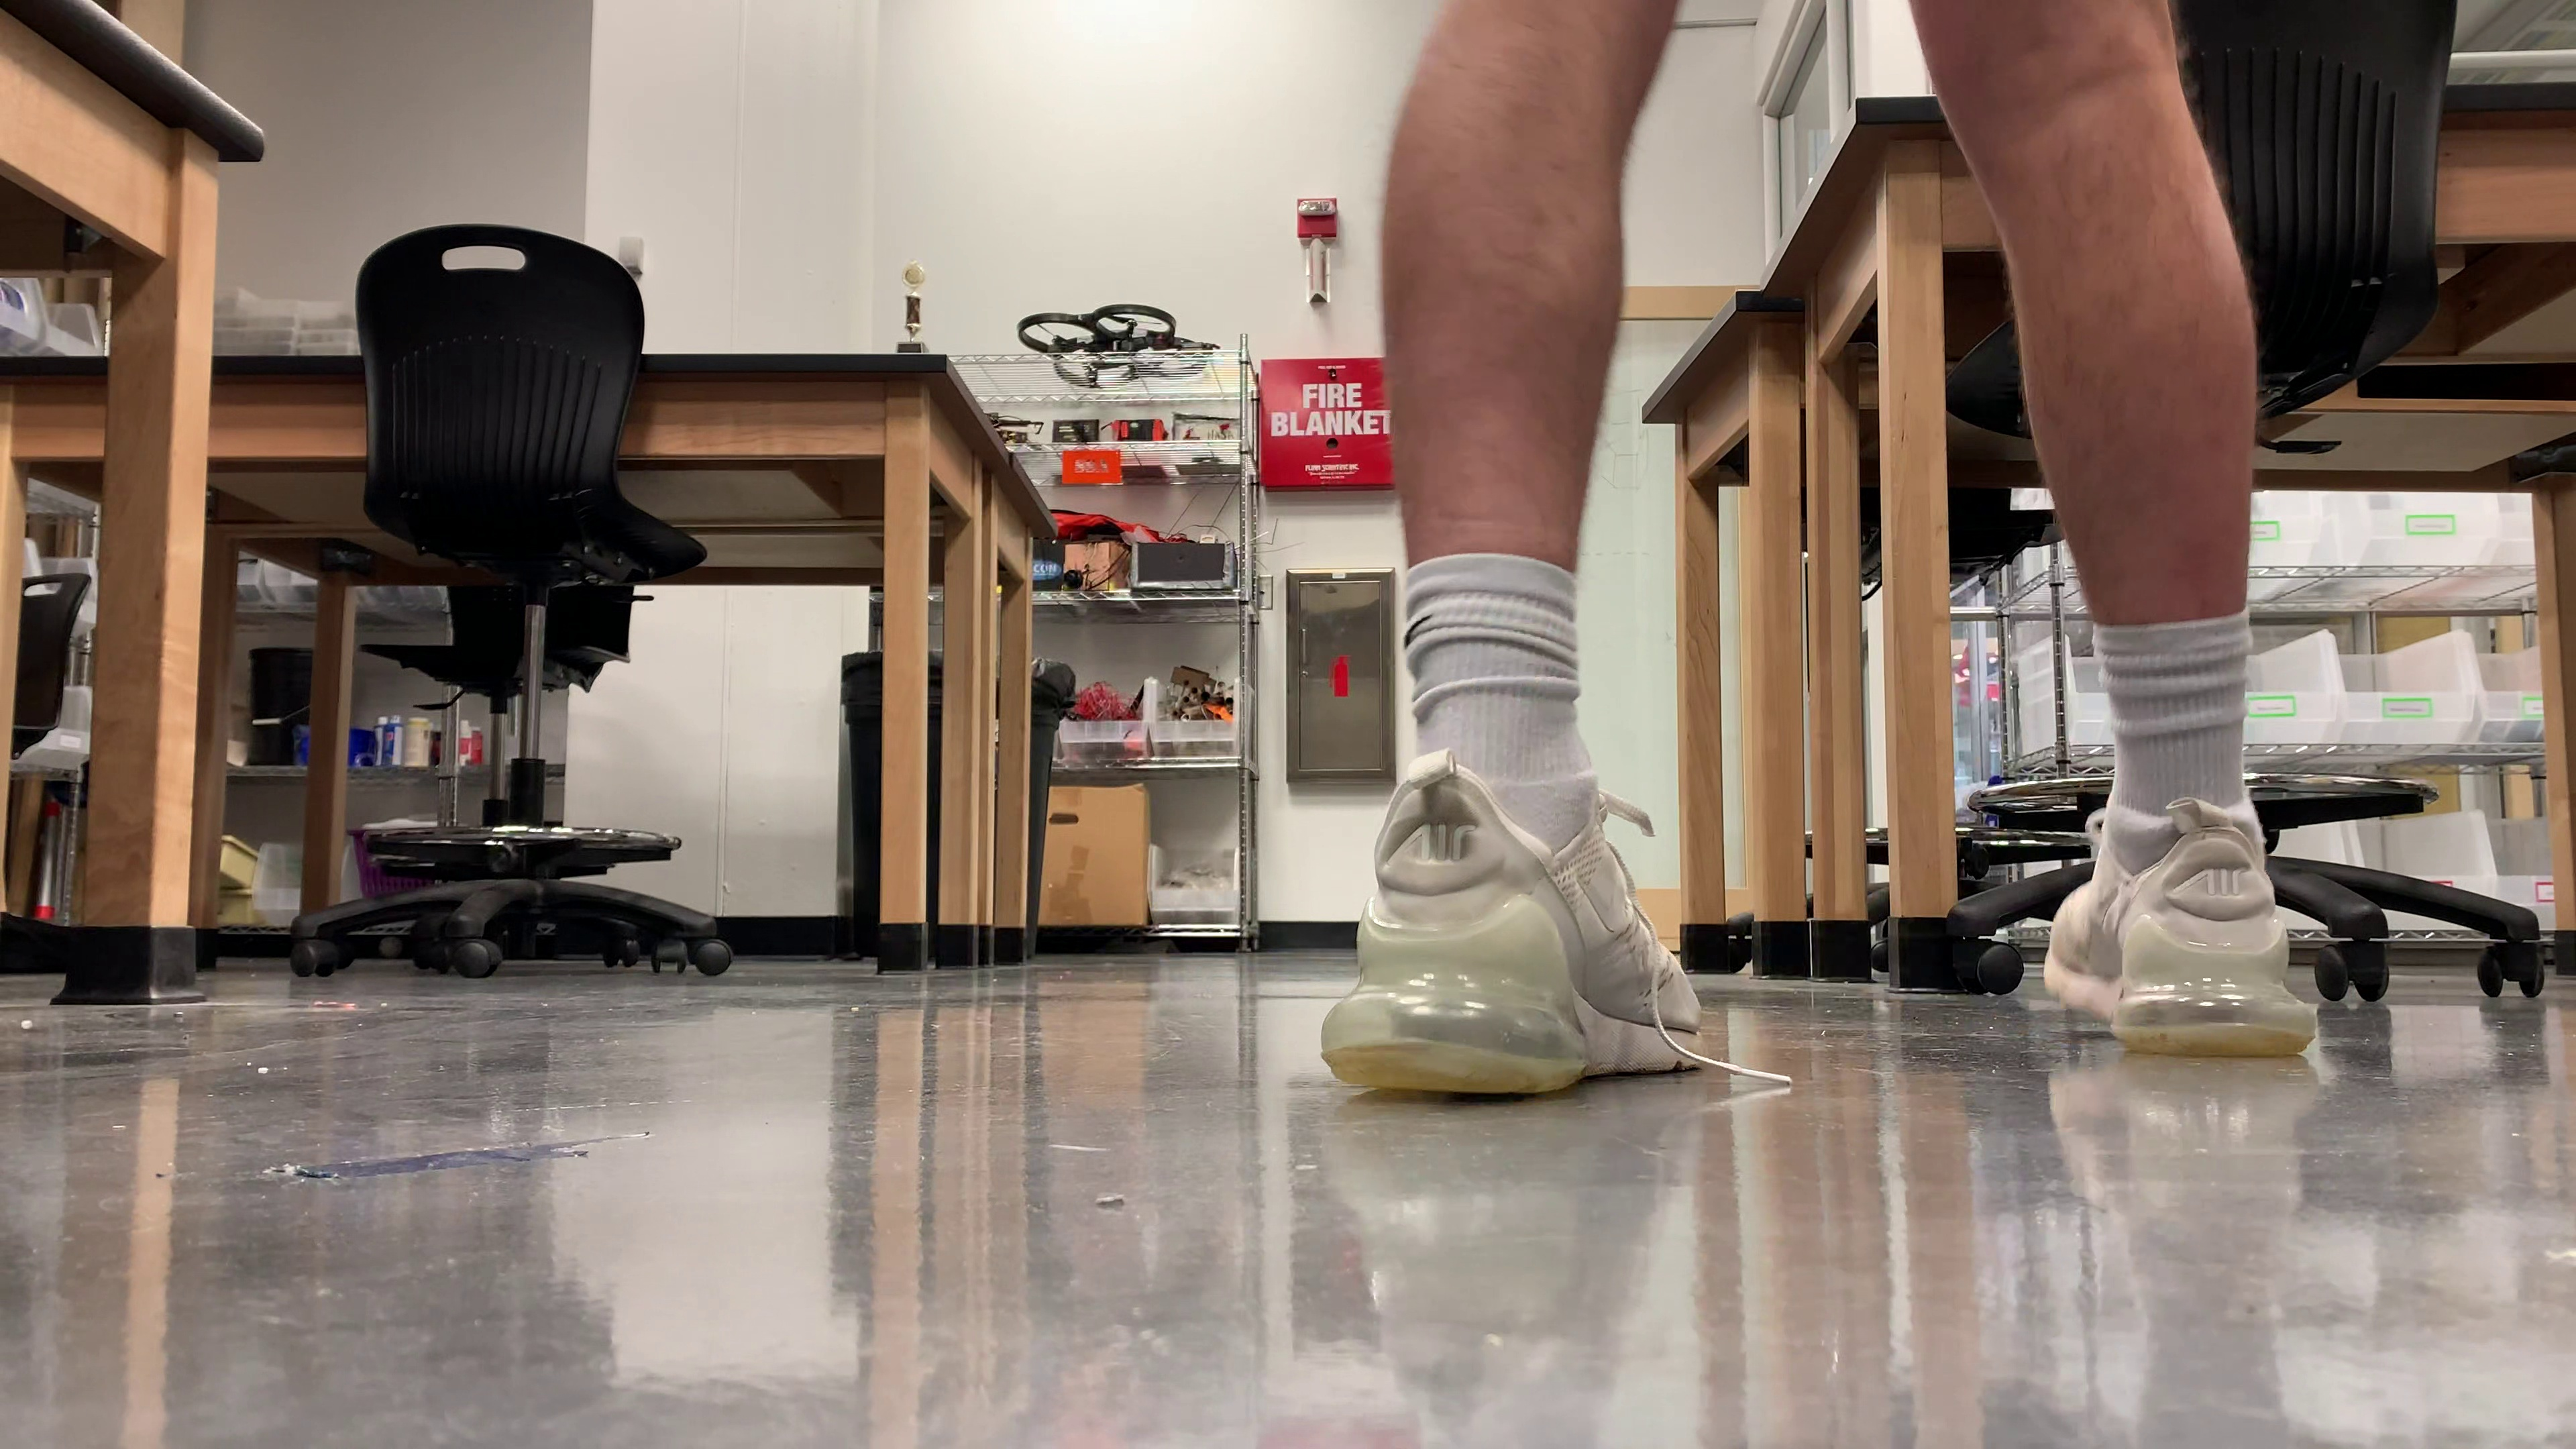shoe: (1320, 766, 1706, 1095), (2043, 826, 2314, 1058)
